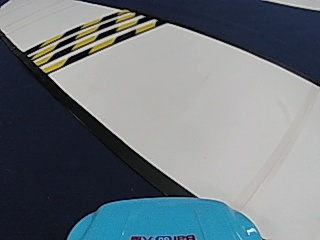bump: (28, 14, 138, 72)
